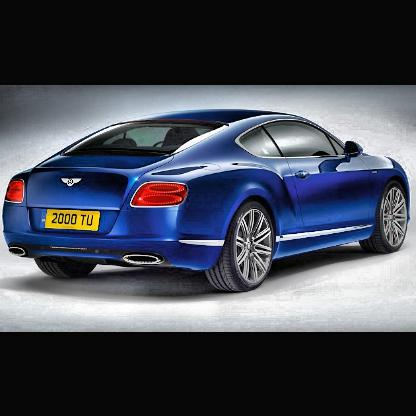Bentley Continental GT Coupe 2012: (5, 108, 413, 293)
